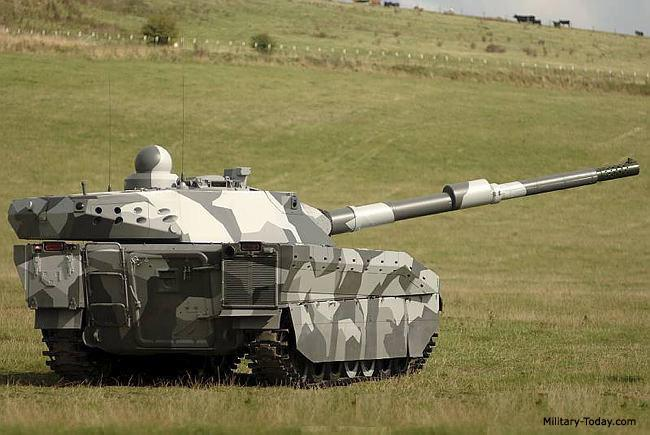tank: (5, 141, 644, 392)
